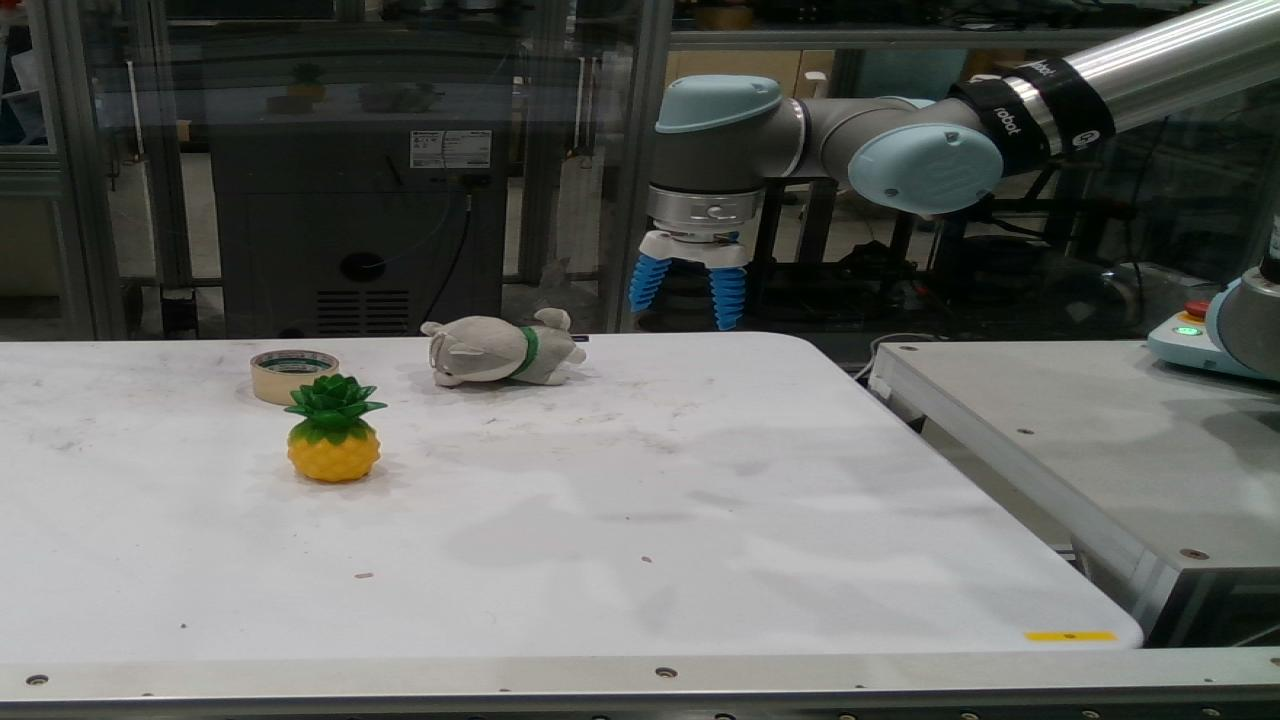UR5: (640, 0, 1272, 269), (1206, 217, 1278, 379)
gripper_left: (630, 255, 668, 309)
gripper_right: (712, 268, 742, 328)
target: (424, 309, 582, 386), (284, 376, 382, 480), (252, 351, 334, 404)
